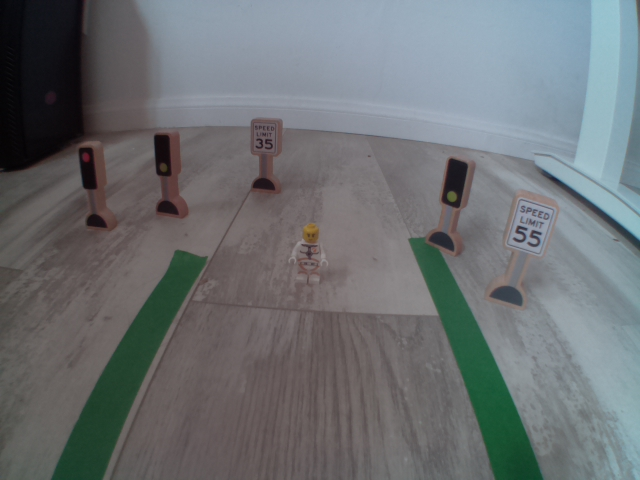Green Traffic Light: (438, 153, 468, 210), (154, 130, 177, 178)
Red Traffic Light: (73, 141, 103, 193)
Speed Limit 35: (249, 116, 281, 157)
Speed Limit 55: (504, 190, 558, 257)
person: (287, 224, 331, 284)
